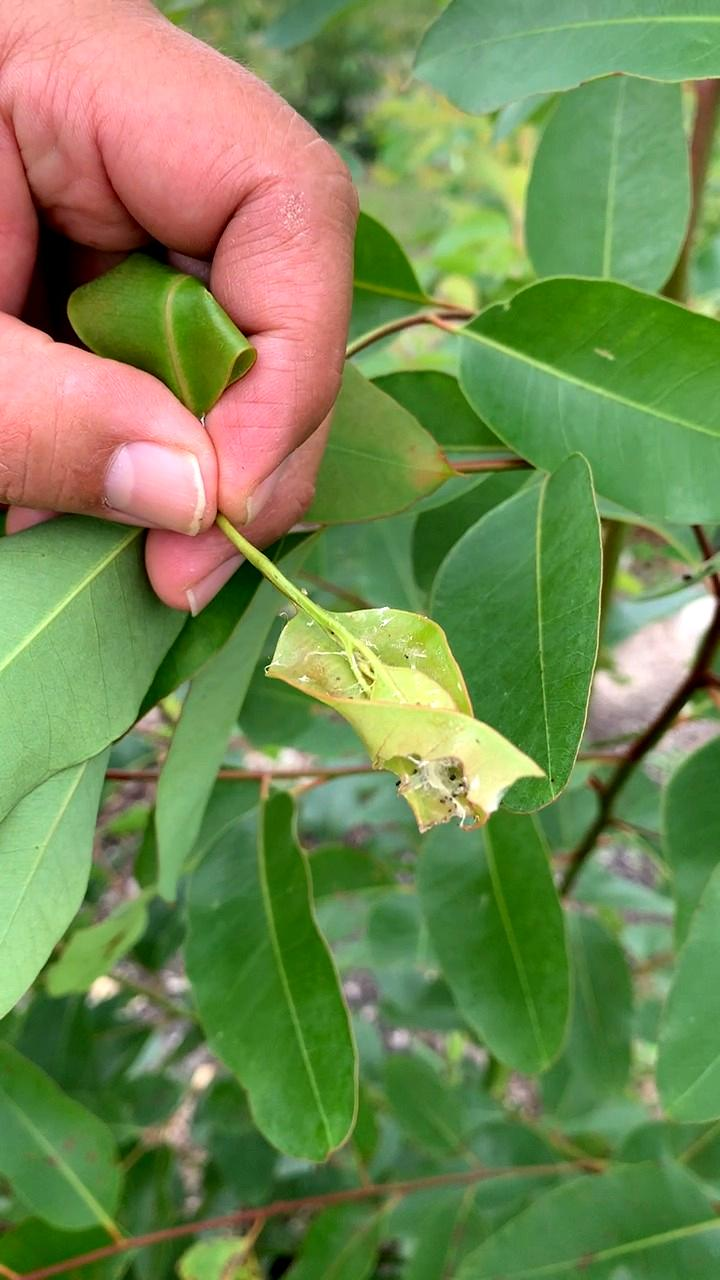Leaf Roller - Leaf: (256, 590, 553, 853)
